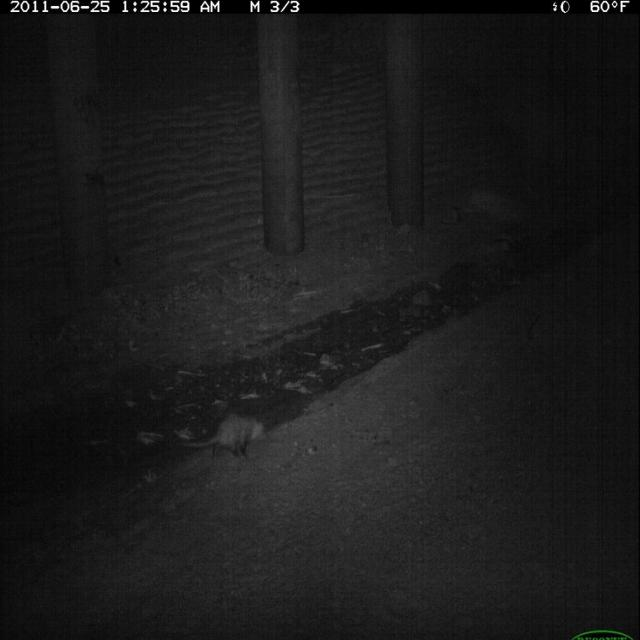opossum: (167, 407, 273, 471)
